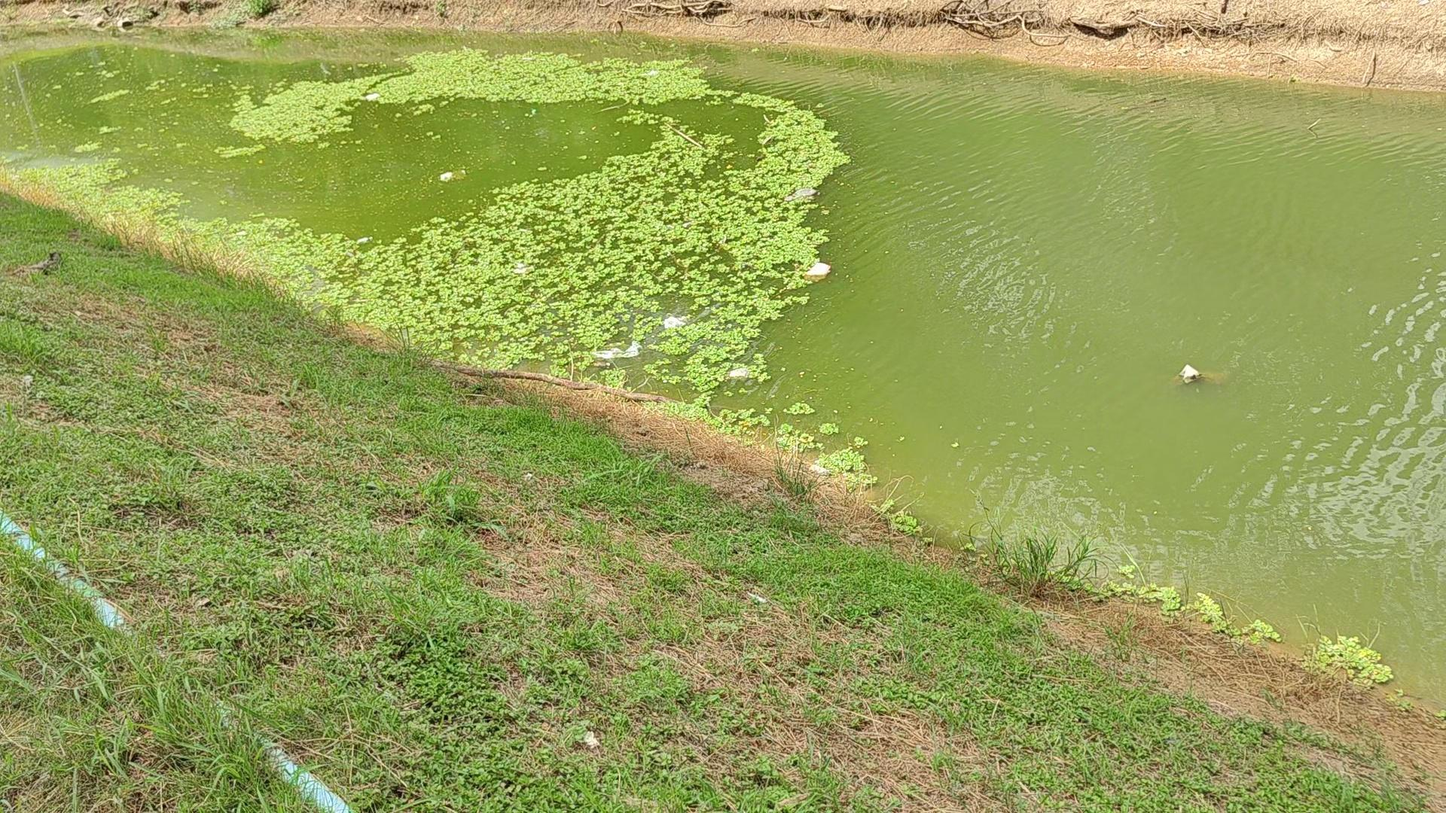trash: (593, 341, 640, 359), (805, 262, 831, 279), (786, 187, 816, 201), (1179, 364, 1200, 382), (664, 316, 685, 328), (728, 367, 749, 378), (439, 172, 454, 181), (364, 93, 380, 100), (357, 237, 371, 243), (645, 72, 659, 75)
